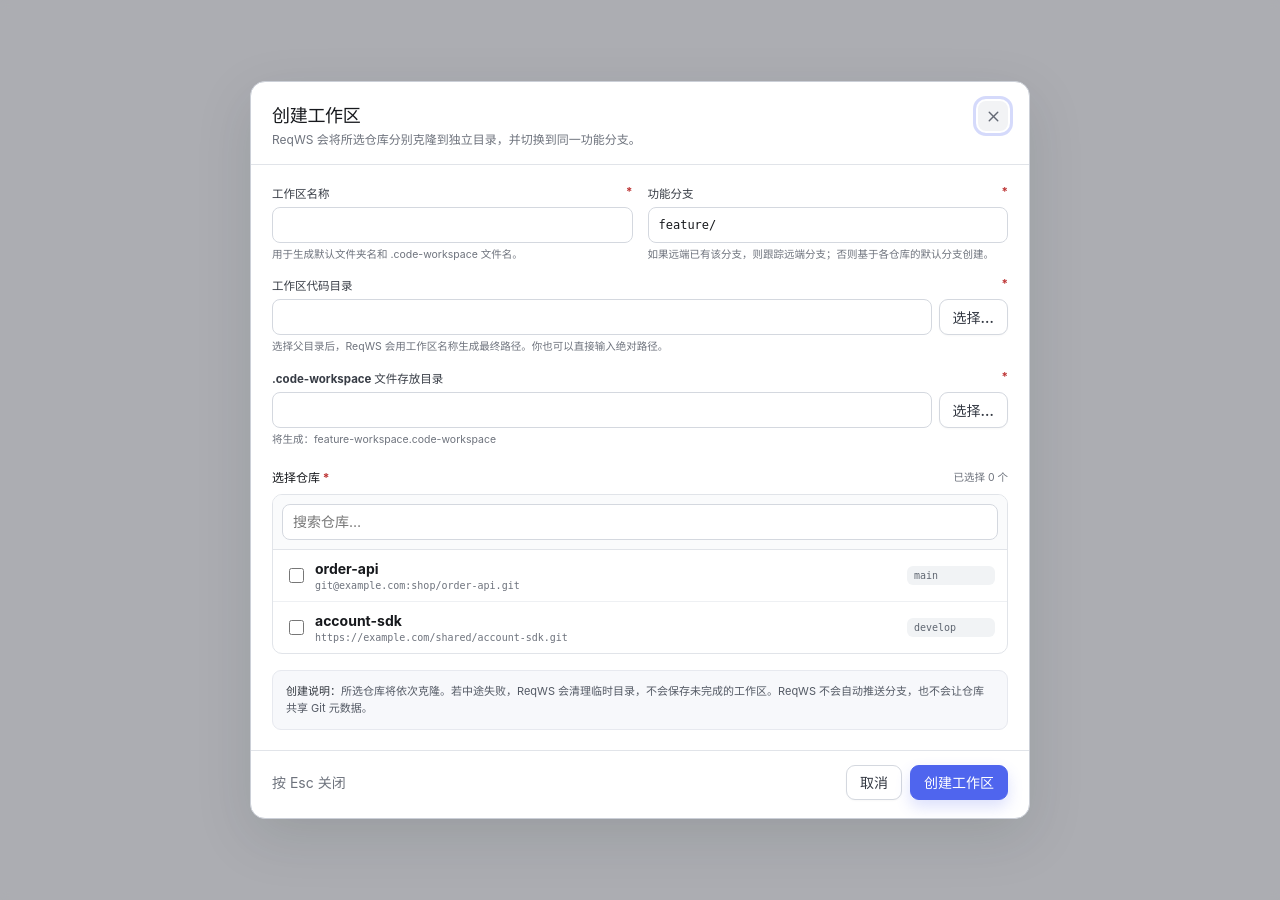
Test: Create Workspace form › prevents duplicate submissions while the first is pending
In the field labelled "工作区名称 * 用于生成默认文件夹名和 .code-workspace 文件名。": {"x": 452, "y": 225} [272,207,632,243], type "FEAT-789-export"
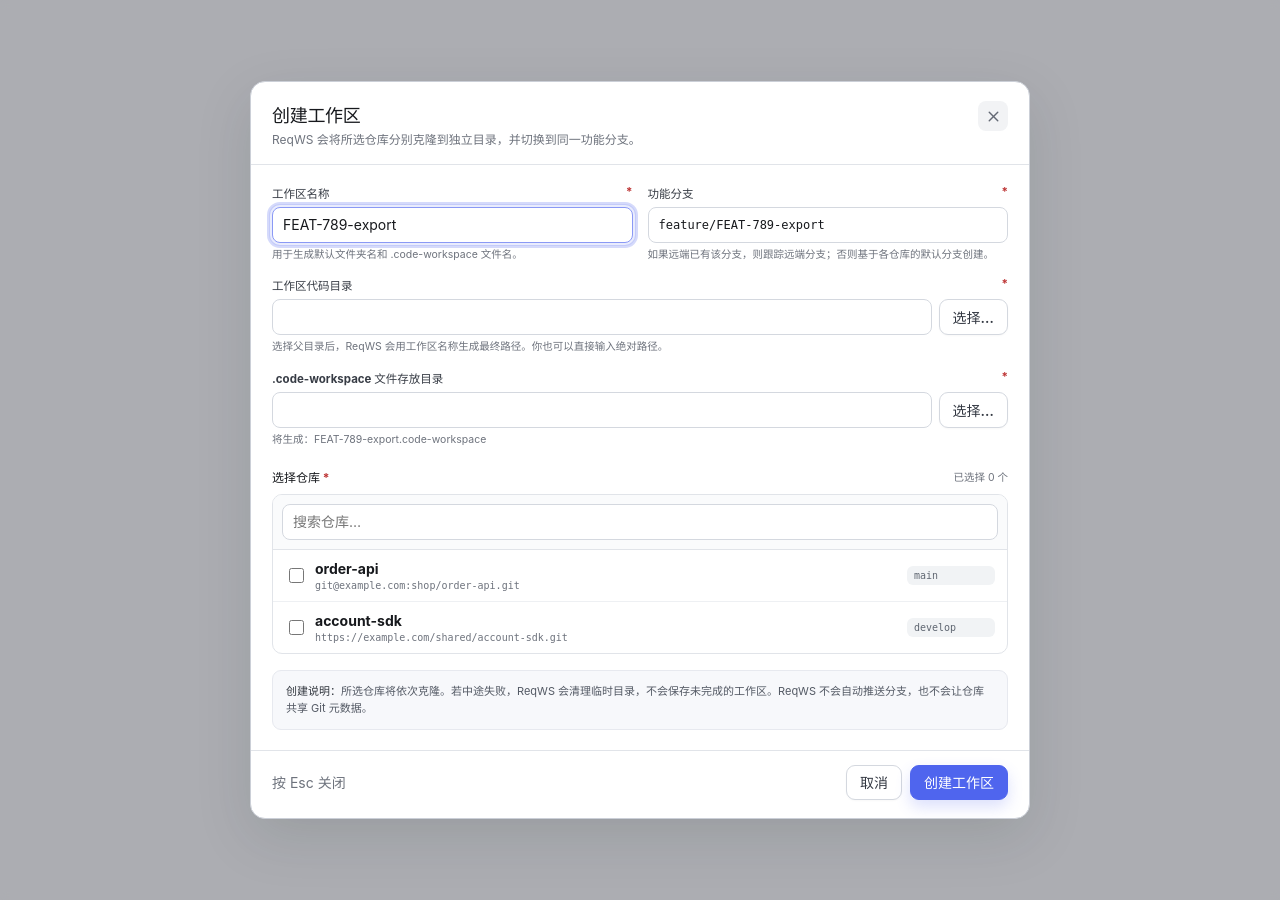
In the field labelled "工作区代码目录 * 选择… 选择父目录后，ReqWS 会用工作区名称生成最终路径。你也可以直接输入绝对路径。": {"x": 602, "y": 317} [272,299,932,335], type "/Users/rose/features/FEAT-789-export"
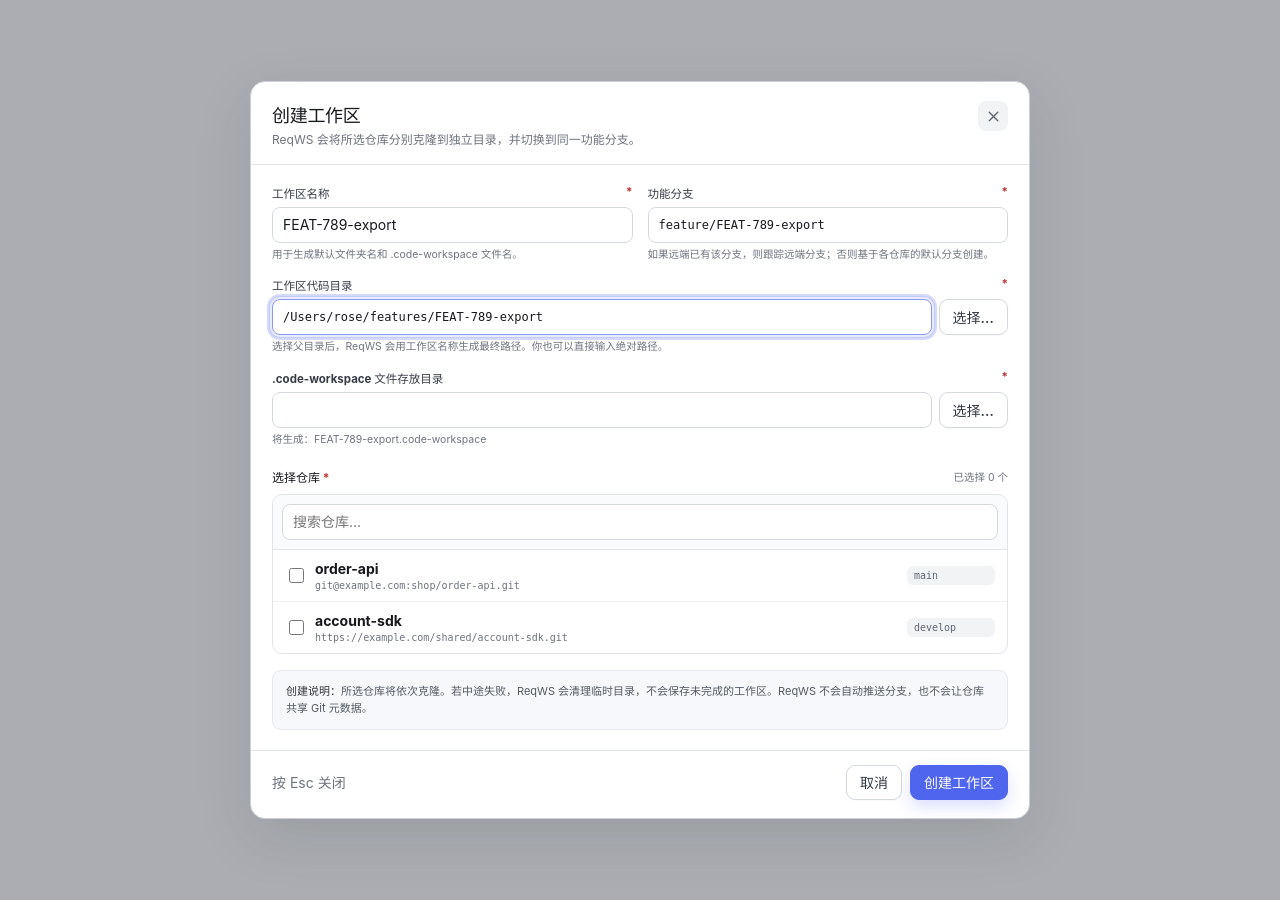
In the field labelled ".code-workspace 文件存放目录": {"x": 602, "y": 410} [272,392,932,428], type "/Users/rose/workspaces"
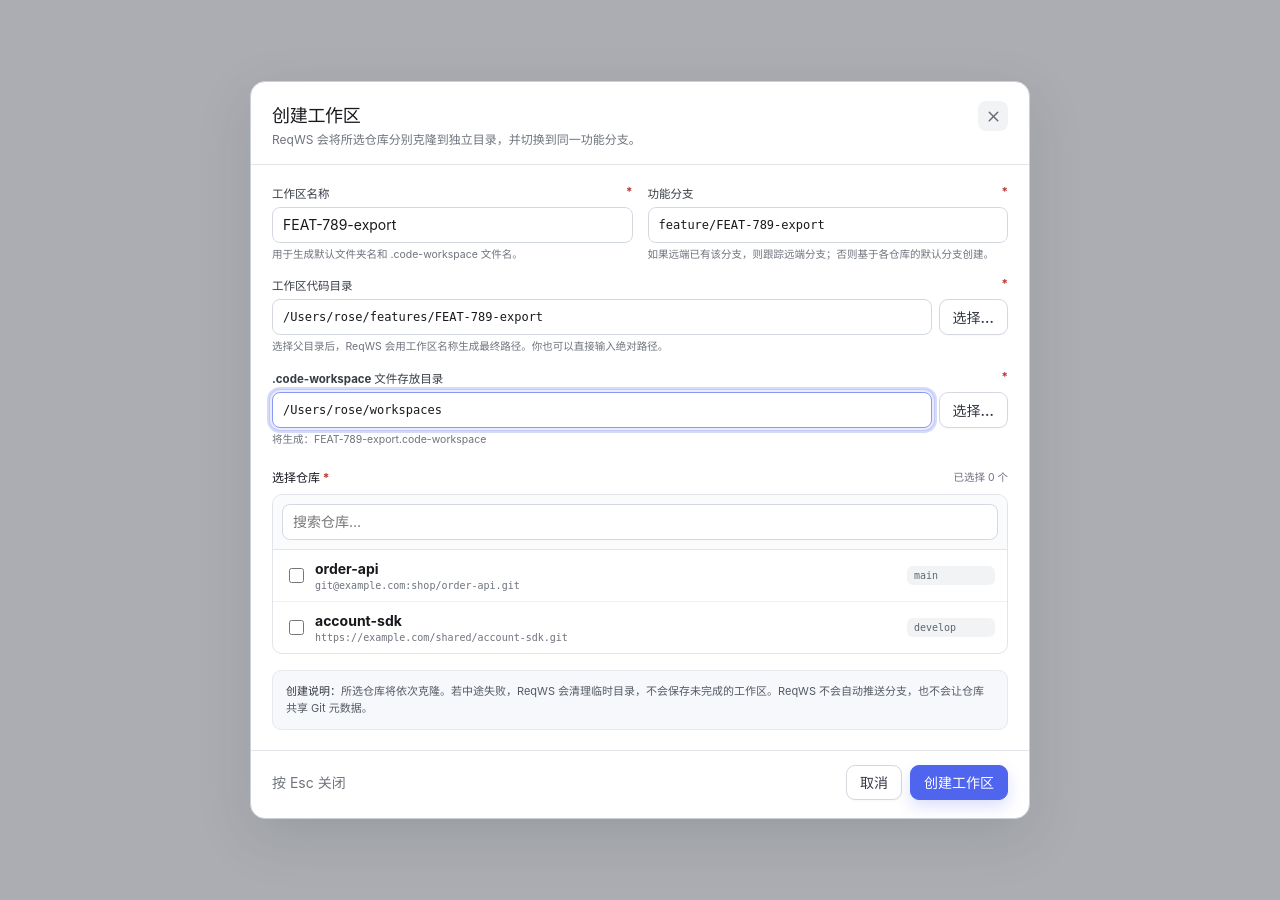
Click the checkbox labelled "order-api git@example.com:shop/order-api.git main": {"x": 296, "y": 575} [289,568,304,583]
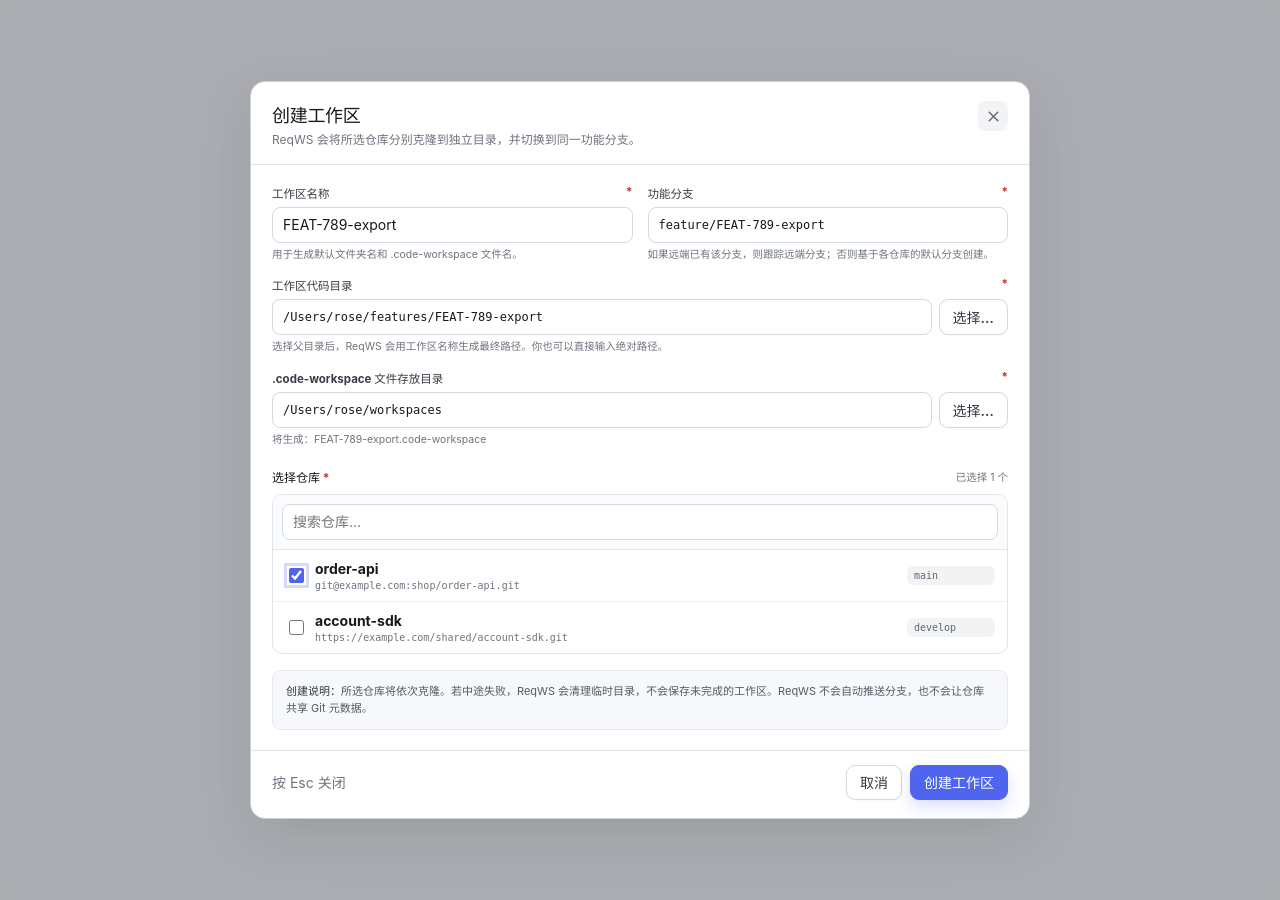
Double-click the button "创建工作区": {"x": 959, "y": 782} [910,765,1008,800]
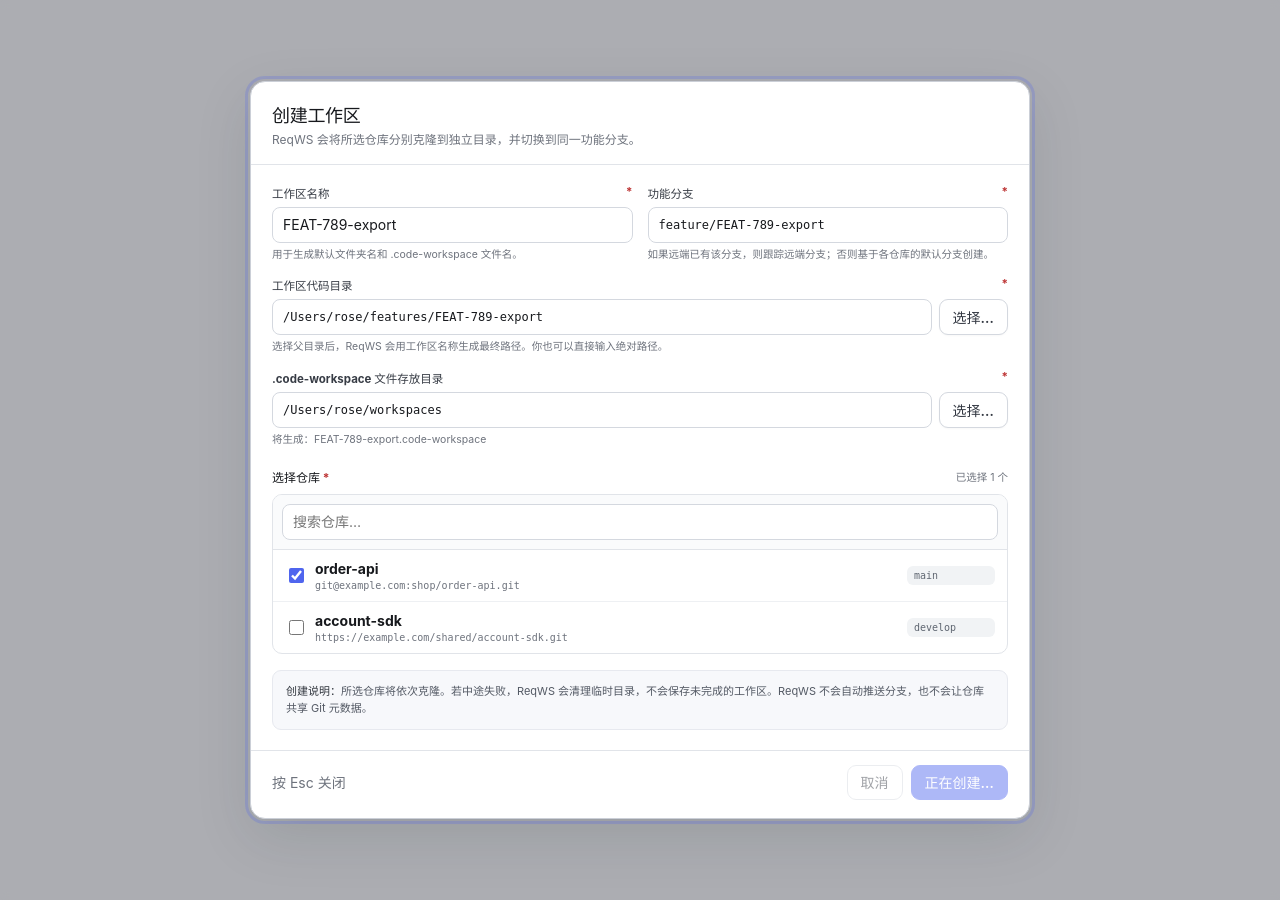
Now the button "正在创建…" is disabled, box [911,765,1008,800]
